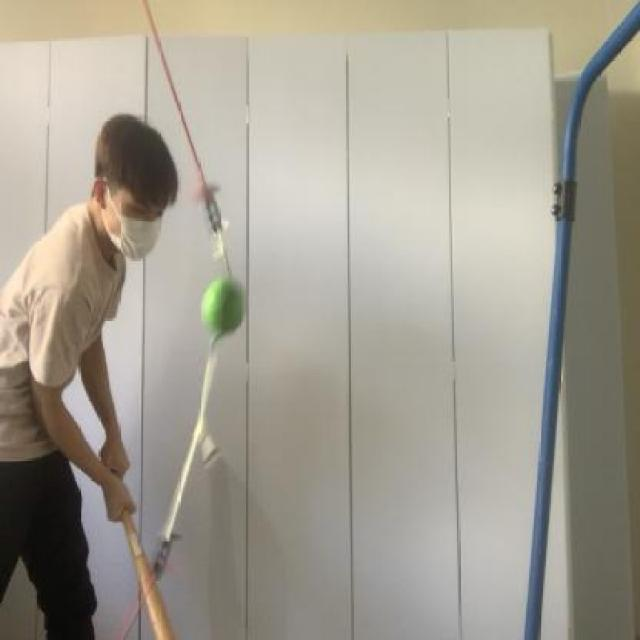baseball: (191, 265, 260, 350)
